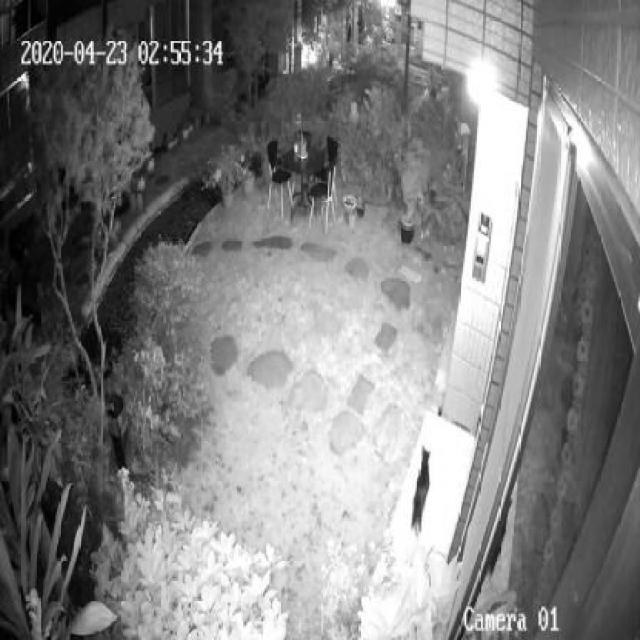animals: (410, 442, 439, 542)
